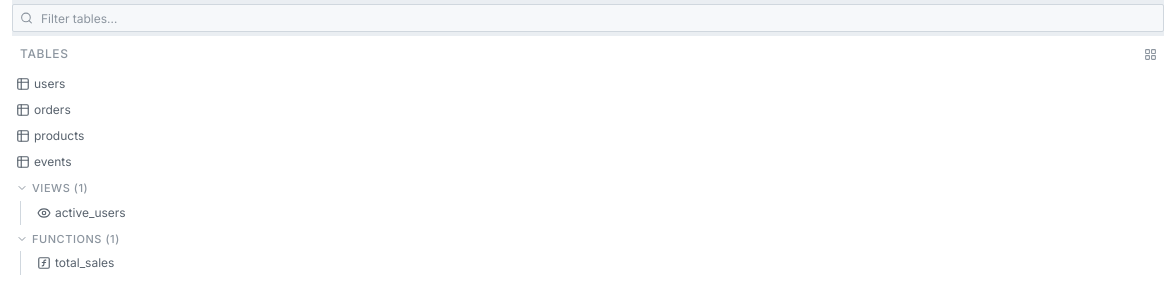
Test: SchemaTree filter › filters the flat list when the engine has no schemas
In the field labelled "Filter tables": (588, 18) [12,4,1164,32], type "event"
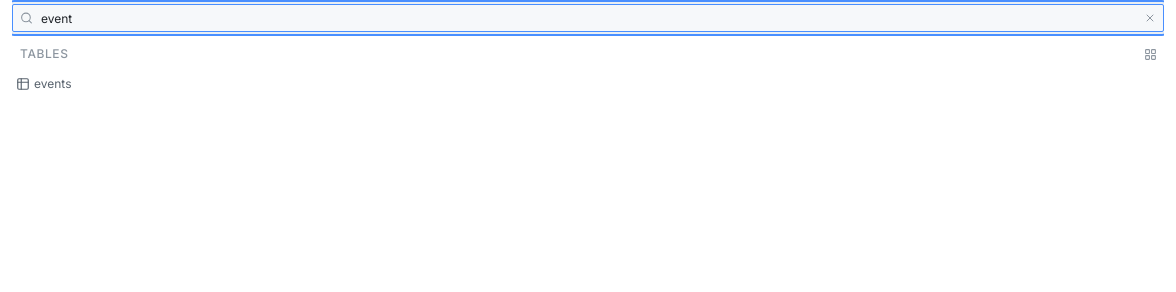
Expected: the text "events" is shown, [34,76,72,92]
Expected: the list item "users" is gone
